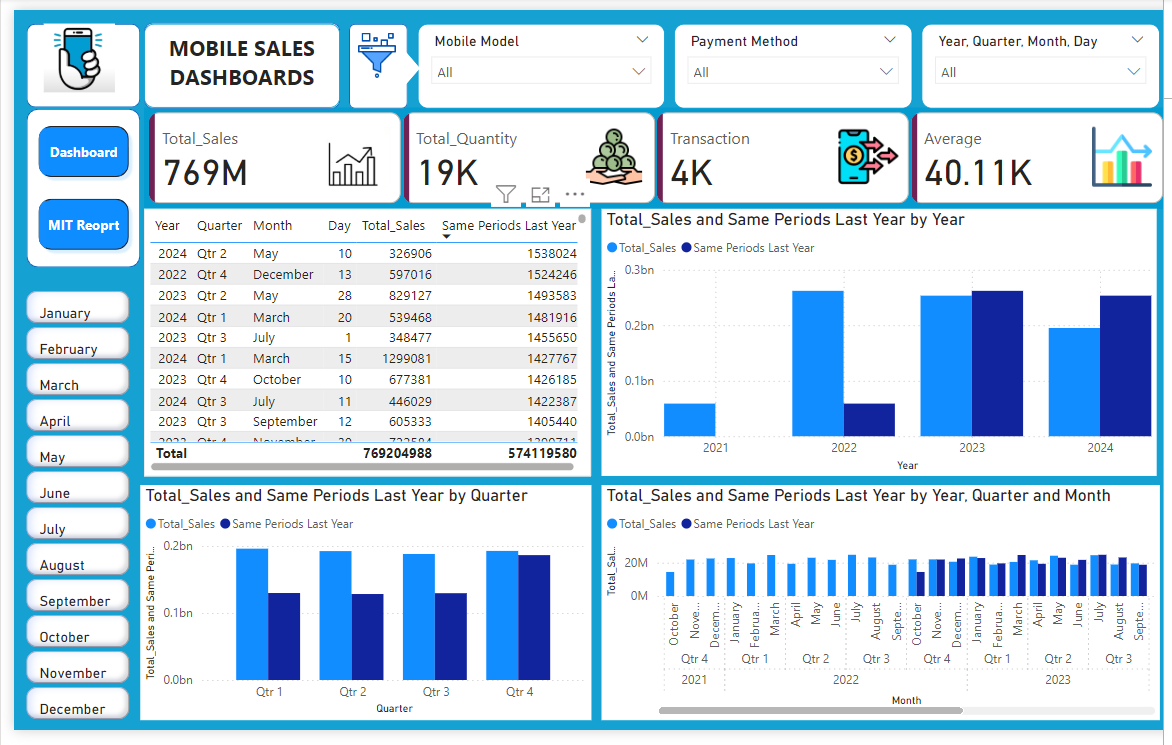

The page's visual inventory and layout, read from the dashboard file:
{"tool":"powerbi","page":{"name":"Same Period Last Year","canvas":[1280,720],"ordinal":1},"visuals":[{"type":"shape","box":[12.5,13.8,113.8,83.8],"z":0},{"type":"image","box":[13.8,8.8,102.5,78.8],"z":1000},{"type":"shape","box":[12.5,98.8,113.8,158.8],"z":2000},{"type":"cardVisual","fields":{"Data":["Mobile Sales Data.Total_Sales","Mobile Sales Data.Total_Quantity","Mobile Sales Data.Transaction","Mobile Sales Data.Average"]},"box":[130.4,97.4,1025,101.5],"z":3000},{"type":"slicer","fields":{"Values":["Mobile Sales Data.Mobile Model"]},"box":[403.8,13.8,247.5,85],"z":4000},{"type":"slicer","fields":{"Values":["Mobile Sales Data.Payment Method"]},"box":[660,13.8,238.8,85],"z":5000},{"type":"slicer","fields":{"Values":["Customem Calender.Date.Variation.Date Hierarchy.Year","Customem Calender.Date.Variation.Date Hierarchy.Quarter","Customem Calender.Date.Variation.Date Hierarchy.Month","Customem Calender.Date.Variation.Date Hierarchy.Day"]},"box":[907.5,13.8,238.8,85],"z":6000},{"type":"shape","box":[335,13.8,58.8,85],"z":7000},{"type":"image","box":[335,3.8,56.2,83.8],"z":8000},{"type":"shape","box":[375,40,31.2,36.2],"z":9000},{"type":"shape","box":[130,12.5,196.2,86.2],"z":10000},{"type":"textbox","box":[130,13.8,196.2,83.8],"z":11000},{"type":"tableEx","fields":{"Values":["Customem Calender.Date.Variation.Date Hierarchy.Year","Customem Calender.Date.Variation.Date Hierarchy.Quarter","Customem Calender.Date.Variation.Date Hierarchy.Month","Customem Calender.Date.Variation.Date Hierarchy.Day","Mobile Sales Data.Total_Sales","Mobile Sales Data.Same Periods Last Year"]},"box":[130,198.8,447.5,267.5],"z":12000},{"type":"clusteredColumnChart","fields":{"Category":["Customem Calender.Date.Variation.Date Hierarchy.Year","Customem Calender.Date.Variation.Date Hierarchy.Quarter","Customem Calender.Date.Variation.Date Hierarchy.Month","Customem Calender.Date.Variation.Date Hierarchy.Day"],"Y":["Mobile Sales Data.Total_Sales","Mobile Sales Data.Same Periods Last Year"]},"box":[587.5,198.8,555,267.5],"z":13000},{"type":"clusteredColumnChart","fields":{"Y":["Mobile Sales Data.Total_Sales","Mobile Sales Data.Same Periods Last Year"],"Category":["Customem Calender.Date.Variation.Date Hierarchy.Year","Customem Calender.Date.Variation.Date Hierarchy.Quarter","Customem Calender.Date.Variation.Date Hierarchy.Month","Customem Calender.Date.Variation.Date Hierarchy.Day"]},"box":[587.5,475,558.8,235],"z":14000},{"type":"clusteredColumnChart","fields":{"Category":["Customem Calender.Date.Variation.Date Hierarchy.Year","Customem Calender.Date.Variation.Date Hierarchy.Quarter","Customem Calender.Date.Variation.Date Hierarchy.Month","Customem Calender.Date.Variation.Date Hierarchy.Day"],"Y":["Mobile Sales Data.Total_Sales","Mobile Sales Data.Same Periods Last Year"]},"box":[126.2,475,451.2,235],"z":15000},{"type":"advancedSlicerVisual","fields":{"Values":["Customem Calender.Date.Variation.Date Hierarchy.Month"]},"box":[7.5,276.2,113.8,443.8],"z":16000},{"type":"pageNavigator","box":[18.8,110,102.5,137.5],"z":16001}]}

Visuals, with their boxes on the page's 1280x720 design canvas (x1, y1, x2, y2). These are canvas units, not pixel positions in the 1172x745 screenshot, which may show the page scaled, cropped or inside an application window:
shape: [12,14,126,98]
image: [14,9,116,88]
shape: [12,99,126,258]
cardVisual - Mobile Sales Data.Total_Sales x Mobile Sales Data.Total_Quantity: [130,97,1155,199]
slicer - Mobile Sales Data.Mobile Model: [404,14,651,99]
slicer - Mobile Sales Data.Payment Method: [660,14,899,99]
slicer - Customem Calender.Date.Variation.Date Hierarchy.Year x Customem Calender.Date.Variation.Date Hierarchy.Quarter: [908,14,1146,99]
shape: [335,14,394,99]
image: [335,4,391,88]
shape: [375,40,406,76]
shape: [130,12,326,99]
textbox: [130,14,326,98]
tableEx - Customem Calender.Date.Variation.Date Hierarchy.Year x Customem Calender.Date.Variation.Date Hierarchy.Quarter: [130,199,578,466]
clusteredColumnChart - Customem Calender.Date.Variation.Date Hierarchy.Year x Customem Calender.Date.Variation.Date Hierarchy.Quarter: [588,199,1142,466]
clusteredColumnChart - Mobile Sales Data.Total_Sales x Mobile Sales Data.Same Periods Last Year: [588,475,1146,710]
clusteredColumnChart - Customem Calender.Date.Variation.Date Hierarchy.Year x Customem Calender.Date.Variation.Date Hierarchy.Quarter: [126,475,577,710]
advancedSlicerVisual - Customem Calender.Date.Variation.Date Hierarchy.Month: [8,276,121,720]
pageNavigator: [19,110,121,248]
